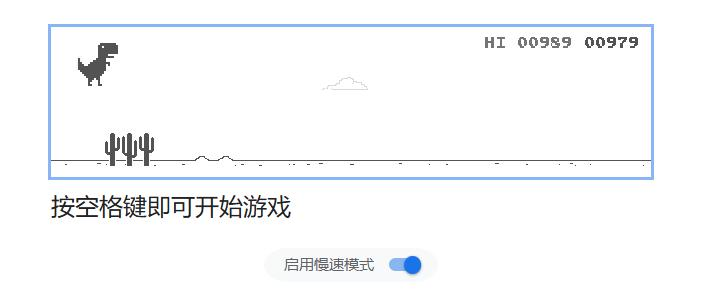cactus: (103, 132, 155, 167)
dino: (75, 41, 118, 87)
